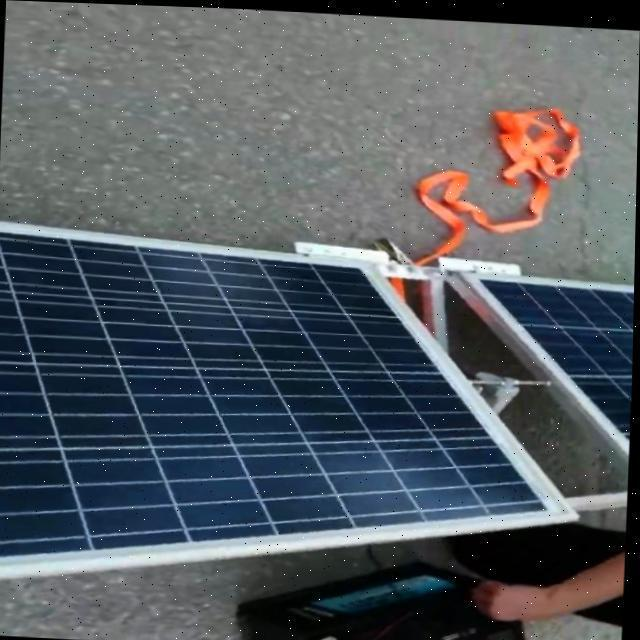Normal Solar Panel: (0, 219, 587, 608), (478, 274, 636, 434)
